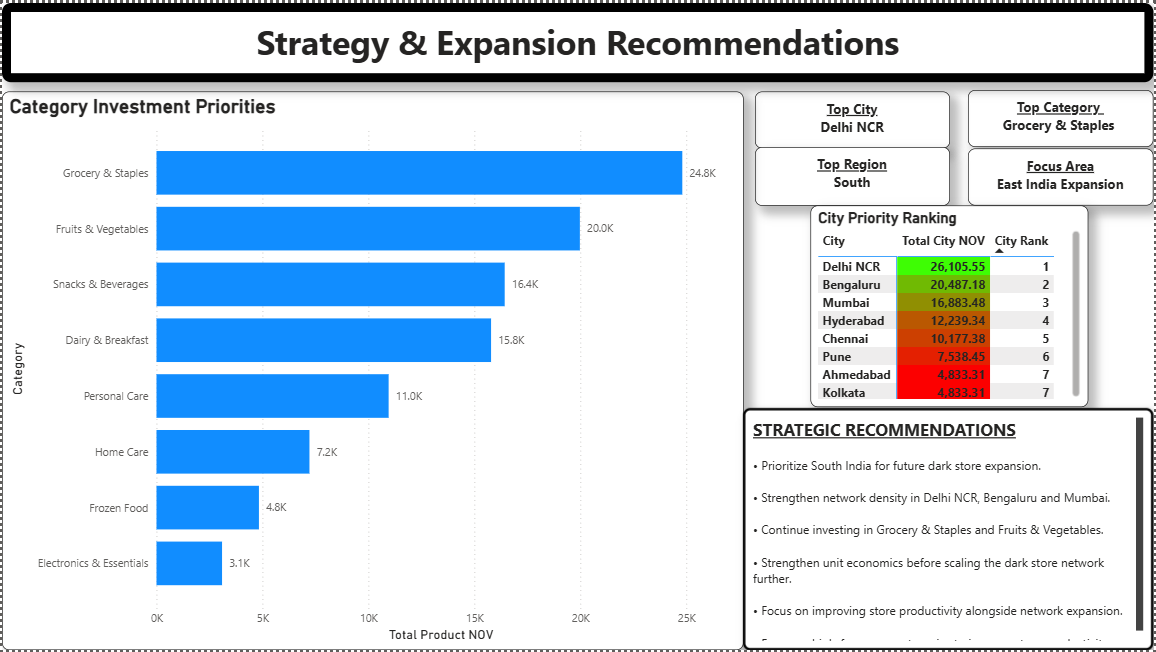

What the dashboard file says about the page in this screenshot:
{"tool":"powerbi","page":{"name":"Expansion & Growth Strategy","canvas":[1280,720],"ordinal":4},"visuals":[{"type":"textbox","box":[1073.6,96.9,205.9,63.6],"z":0},{"type":"textbox","box":[1073.6,162,205.9,63.6],"z":1000},{"type":"textbox","box":[835.8,98.4,216.5,63.6],"z":2000},{"type":"textbox","box":[835.8,160.5,216.5,65.1],"z":3000},{"type":"pivotTable","title":"City Priority Ranking","fields":{"Rows":["Dim_City.City"],"Values":["Fact_CityPerformance.Total City NOV","Dim_City.City Rank"]},"box":[897.9,225.6,308.9,224.1],"z":4000},{"type":"barChart","title":"Category Investment Priorities","fields":{"Y":["Fact_ProductPerformance.Total Product NOV"],"Category":["Fact_ProductPerformance.Category"]},"box":[0,98.4,823.7,620.8],"z":5000},{"type":"textbox","box":[823.7,449.7,455.8,269.5],"z":6000},{"type":"textbox","box":[0,0,1279.5,87.8],"z":7000}]}

Visuals, with their boxes in screenshot pixels (x1, y1, x2, y2), scaled from the page's 1280x720 canvas onto the 1156x652 screenshot:
textbox: region(970, 88, 1155, 145)
textbox: region(970, 147, 1155, 204)
textbox: region(755, 89, 950, 147)
textbox: region(755, 145, 950, 204)
"City Priority Ranking" pivotTable: region(811, 204, 1090, 407)
"Category Investment Priorities" barChart: region(0, 89, 744, 651)
textbox: region(744, 407, 1155, 651)
textbox: region(0, 0, 1155, 80)
